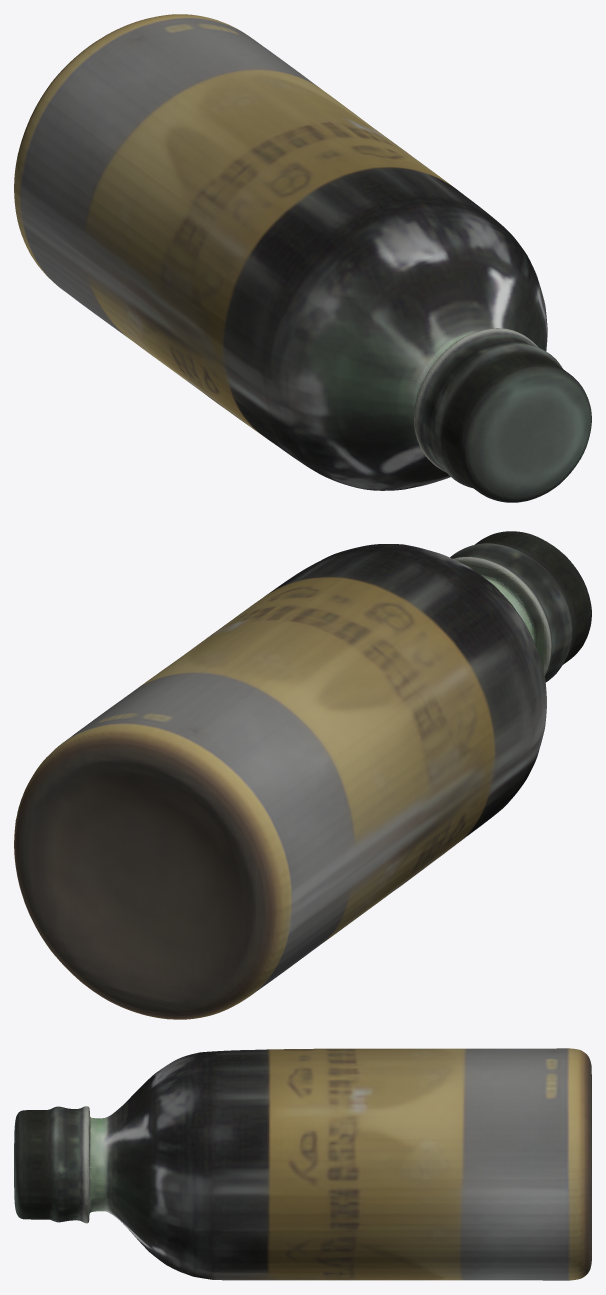
The picture shows the model from 3 angles, top to bottom: view 1: azimuth 30°, elevation 25°; view 2: azimuth 150°, elevation 25°; view 3: azimuth 270°, elevation 25°; orthographic projection. The views are drawn at different scales.
Visible parts, largest first — view 1: mesh.obj; view 2: mesh.obj; view 3: mesh.obj.
Part boxes in pixels (<box>): mesh.obj: <box>14,14,591,502</box>; mesh.obj: <box>14,531,591,1019</box>; mesh.obj: <box>14,1048,591,1280</box>.
Size of the model in its own units: 0.0749 by 0.0747 by 0.1859.
